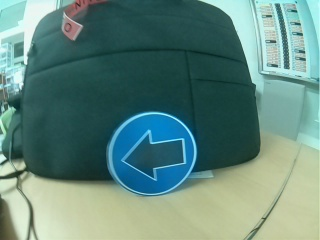left_turn: (109, 114, 194, 197)
